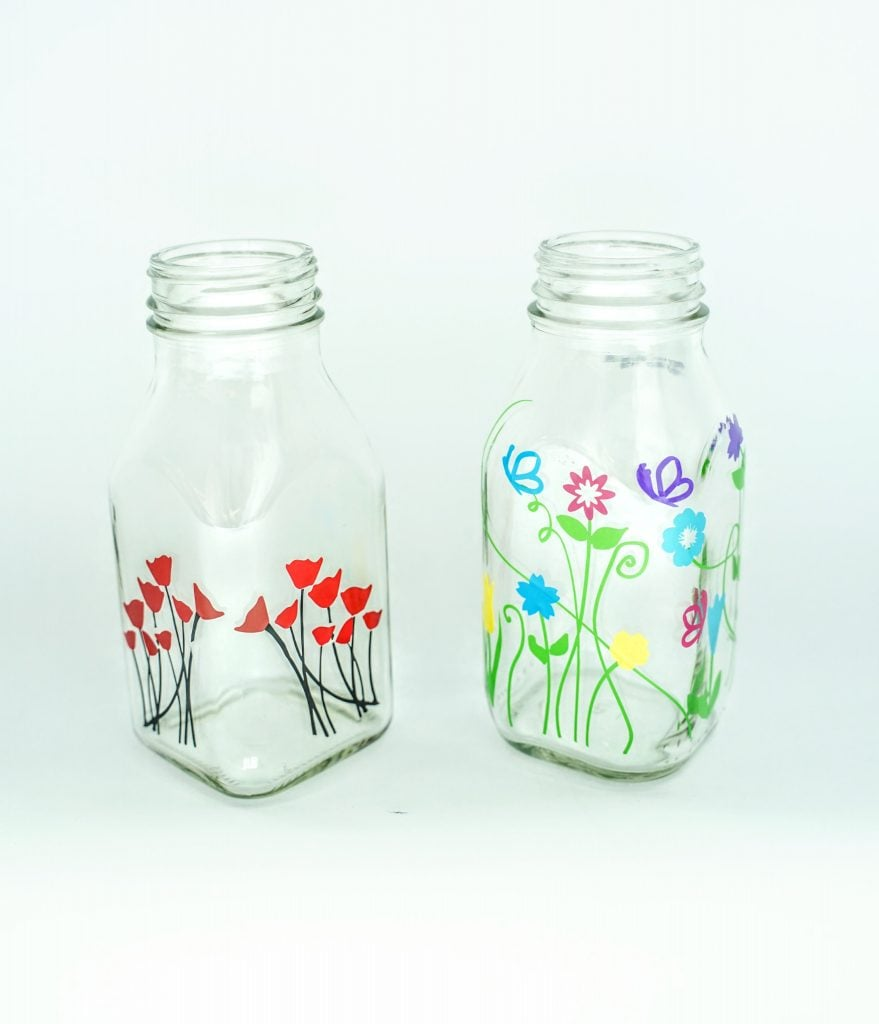glass_bottle: (89, 214, 422, 817), (464, 213, 766, 803)
